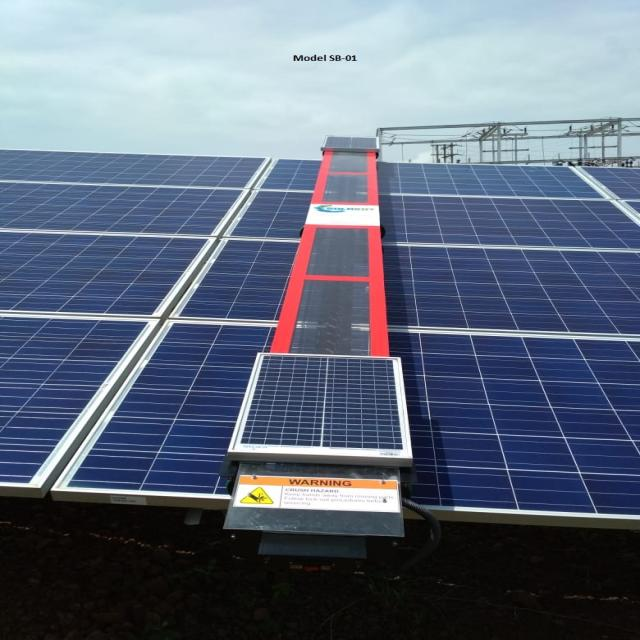clean-solar-panel: (3, 154, 638, 526)
